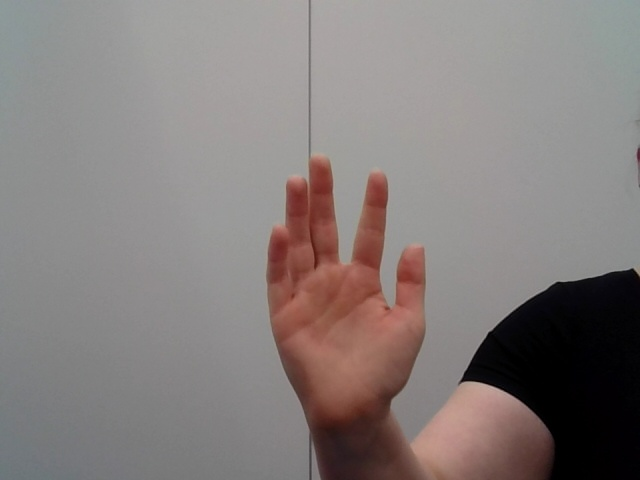nada: (248, 141, 443, 450)
